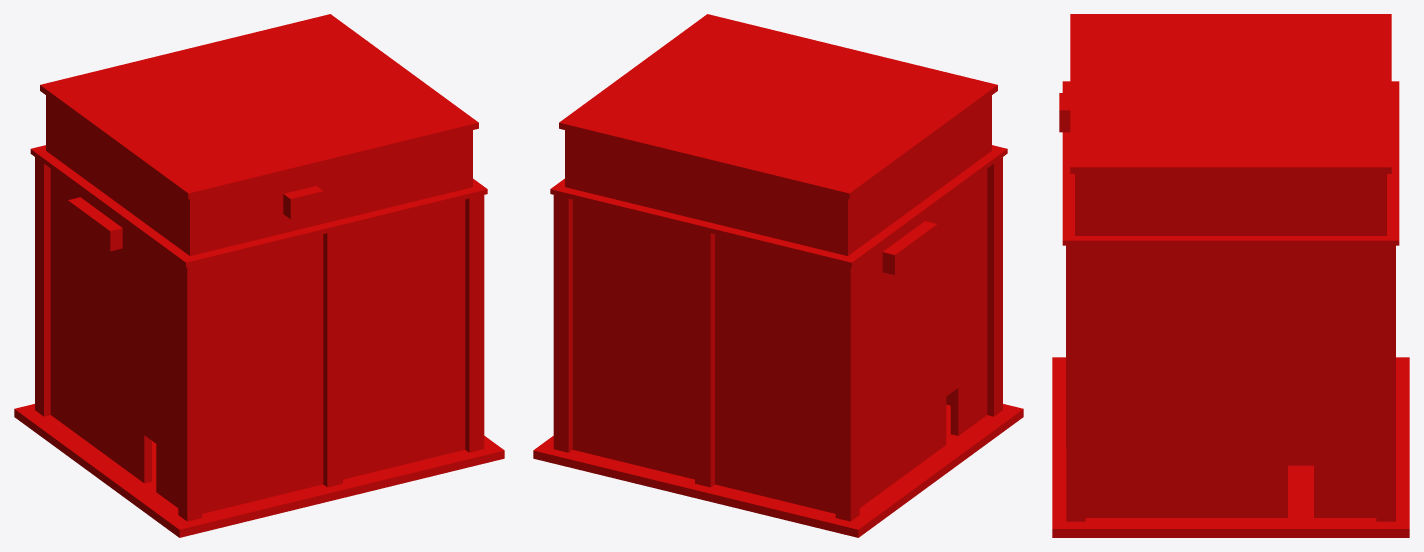
Rendered from SM_Bld_Industrial_Medium_01_Collision.fbx.
3 renders of one model, left to right at view 1: azimuth 30°, elevation 25°; view 2: azimuth 150°, elevation 25°; view 3: azimuth 270°, elevation 25°, orthographic. The views are drawn at different scales.
Parts seen in each view (by area): view 1: SM_Bld_Industrial_Medium_01_Collision; view 2: SM_Bld_Industrial_Medium_01_Collision; view 3: SM_Bld_Industrial_Medium_01_Collision.
Part boxes in pixels (x1,y1,x2,y2): SM_Bld_Industrial_Medium_01_Collision: (14,14,504,537); SM_Bld_Industrial_Medium_01_Collision: (533,14,1023,537); SM_Bld_Industrial_Medium_01_Collision: (1052,14,1409,537).
Size of the model in its own units: 1596 by 1603 by 1405.
